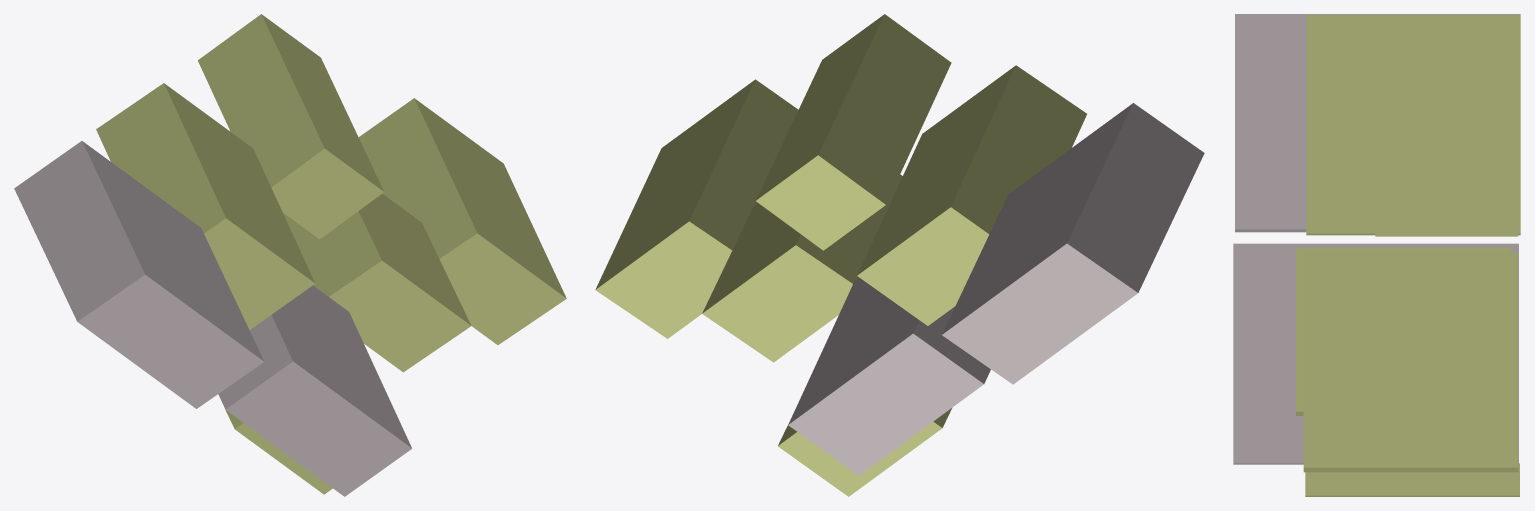
3 views of the same model, side by side, from view 1: azimuth 30°, elevation 25°; view 2: azimuth 150°, elevation 25°; view 3: azimuth 270°, elevation 25° (orthographic). The views are drawn at different scales.
Visible parts, largest first — view 1: 0_2_2_0_0_0_0_2_2_1; view 2: 0_2_2_0_0_0_0_2_2_1; view 3: 0_2_2_0_0_0_0_2_2_1.
Part boxes in pixels (box(x1,y1,x2,y2)): 0_2_2_0_0_0_0_2_2_1: box(14, 14, 566, 496); 0_2_2_0_0_0_0_2_2_1: box(595, 14, 1204, 496); 0_2_2_0_0_0_0_2_2_1: box(1233, 14, 1520, 496).
Size of the model in its own units: 26.85 by 22.73 by 12.07.
